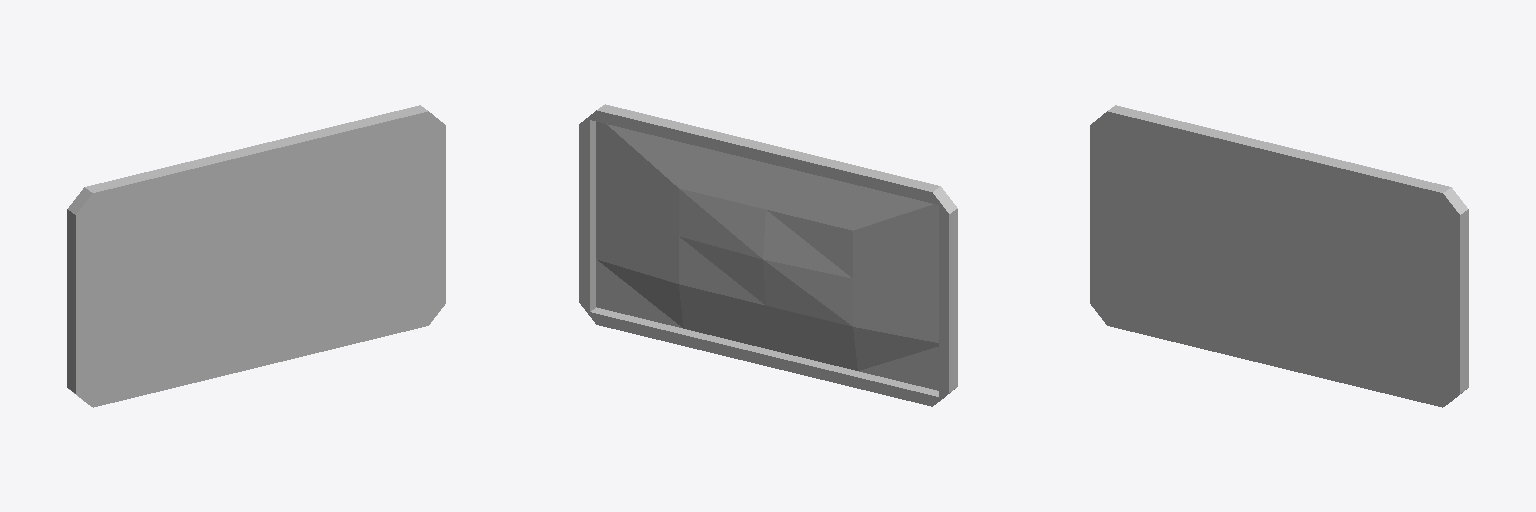
Rendered from screen.obj.
The picture shows the model from 3 angles: view 1: azimuth 30°, elevation 25°; view 2: azimuth 150°, elevation 25°; view 3: azimuth 330°, elevation 25°; orthographic projection.
Parts seen in each view (by area): view 1: pCube4; view 2: pCube4; view 3: pCube4.
Boxes of the visible parts, <box> form: pCube4: <box>67,105,445,407</box>; pCube4: <box>579,104,957,406</box>; pCube4: <box>1090,105,1468,407</box>.
Bounding box in the file's own units: 10.37 × 5.74 × 0.4718.